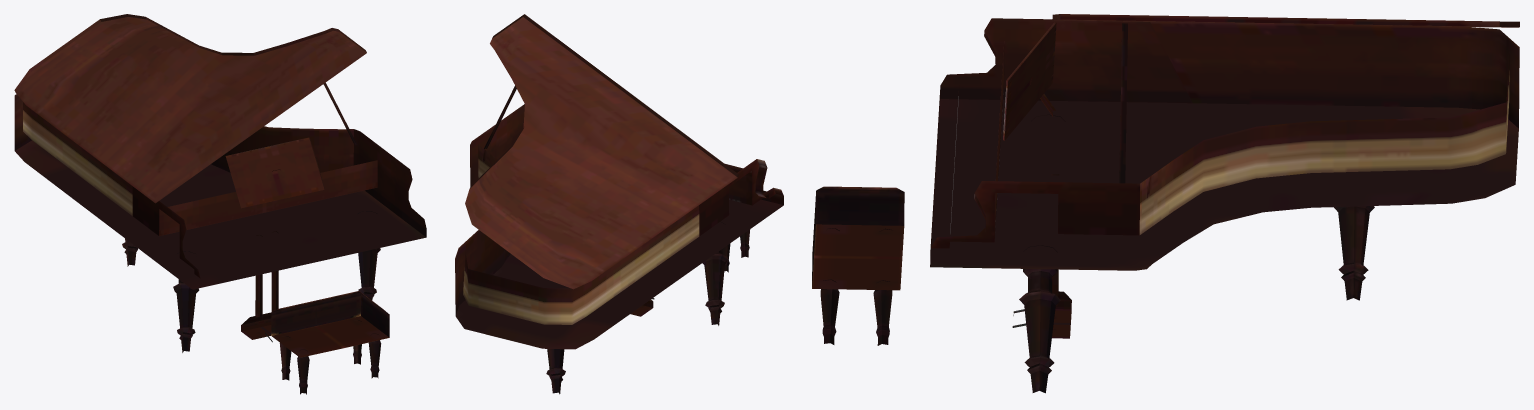
3 views of the same model, side by side, from view 1: azimuth 30°, elevation 25°; view 2: azimuth 150°, elevation 25°; view 3: azimuth 270°, elevation 25° (orthographic). The views are drawn at different scales.
Visible parts, largest first — view 1: mesh_724_723.nr; view 2: mesh_724_723.nr; view 3: mesh_724_723.nr.
Boxes of the visible parts, x1,y1,x2,y2 form: mesh_724_723.nr: (14,14,426,394); mesh_724_723.nr: (455,14,783,394); mesh_724_723.nr: (812,14,1519,393).
Size of the model in its own units: 1.46 by 1.55 by 2.6.
1 material, 1 textured.
